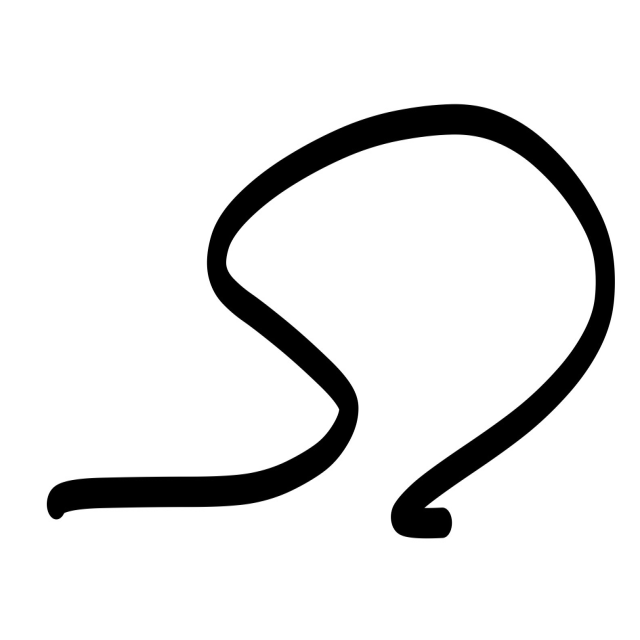ohms: (37, 90, 630, 576)
